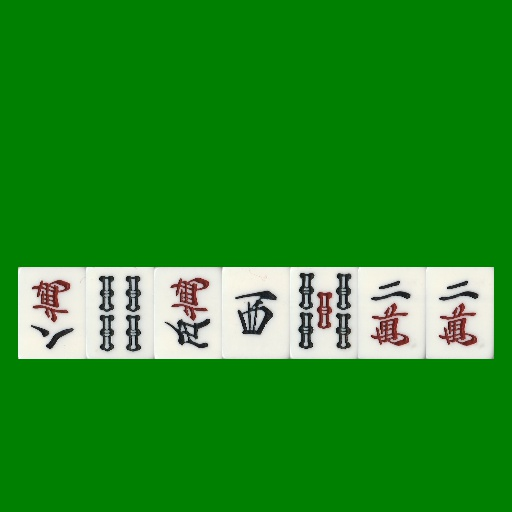2m: (358, 267, 426, 359), (426, 267, 494, 359)
4s: (86, 267, 154, 359)
5m: (154, 267, 222, 359)
5s: (290, 267, 358, 359)
8m: (18, 267, 86, 359)
west: (222, 267, 290, 359)
